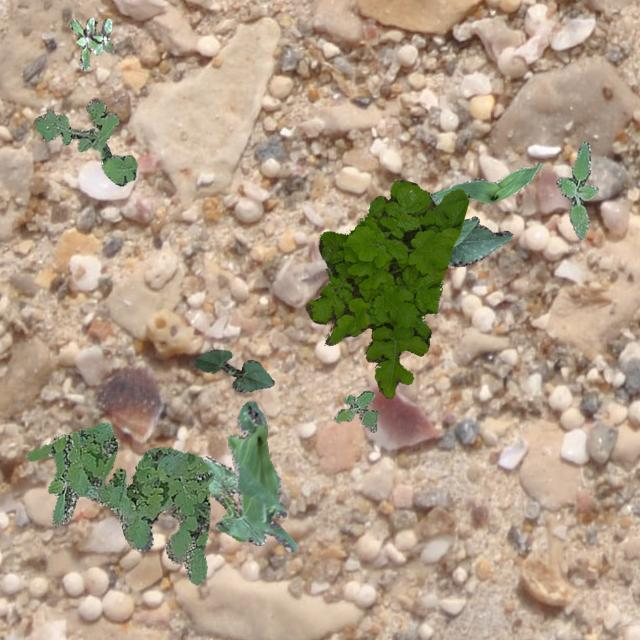crop: (227, 400, 296, 550), (428, 192, 512, 266), (202, 454, 266, 544), (430, 162, 540, 202), (192, 348, 274, 392)
weed: (304, 178, 468, 396), (26, 422, 212, 584), (32, 98, 136, 184), (556, 140, 596, 240), (68, 16, 112, 70), (333, 389, 378, 432)
